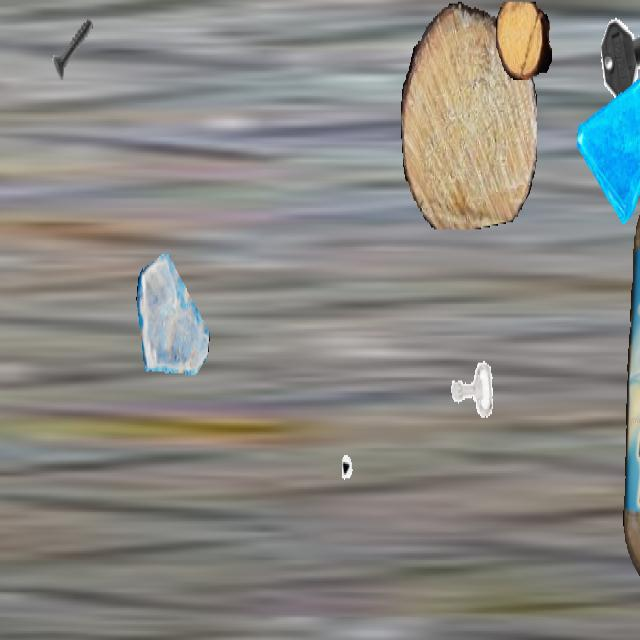glass: (577, 62, 640, 222), (136, 247, 210, 379)
metal: (342, 423, 404, 533), (445, 343, 497, 436), (47, 2, 99, 94), (597, 2, 640, 112), (0, 521, 2, 613)
plastic: (622, 208, 640, 638)
wood: (401, 2, 537, 229), (496, 2, 552, 80)
